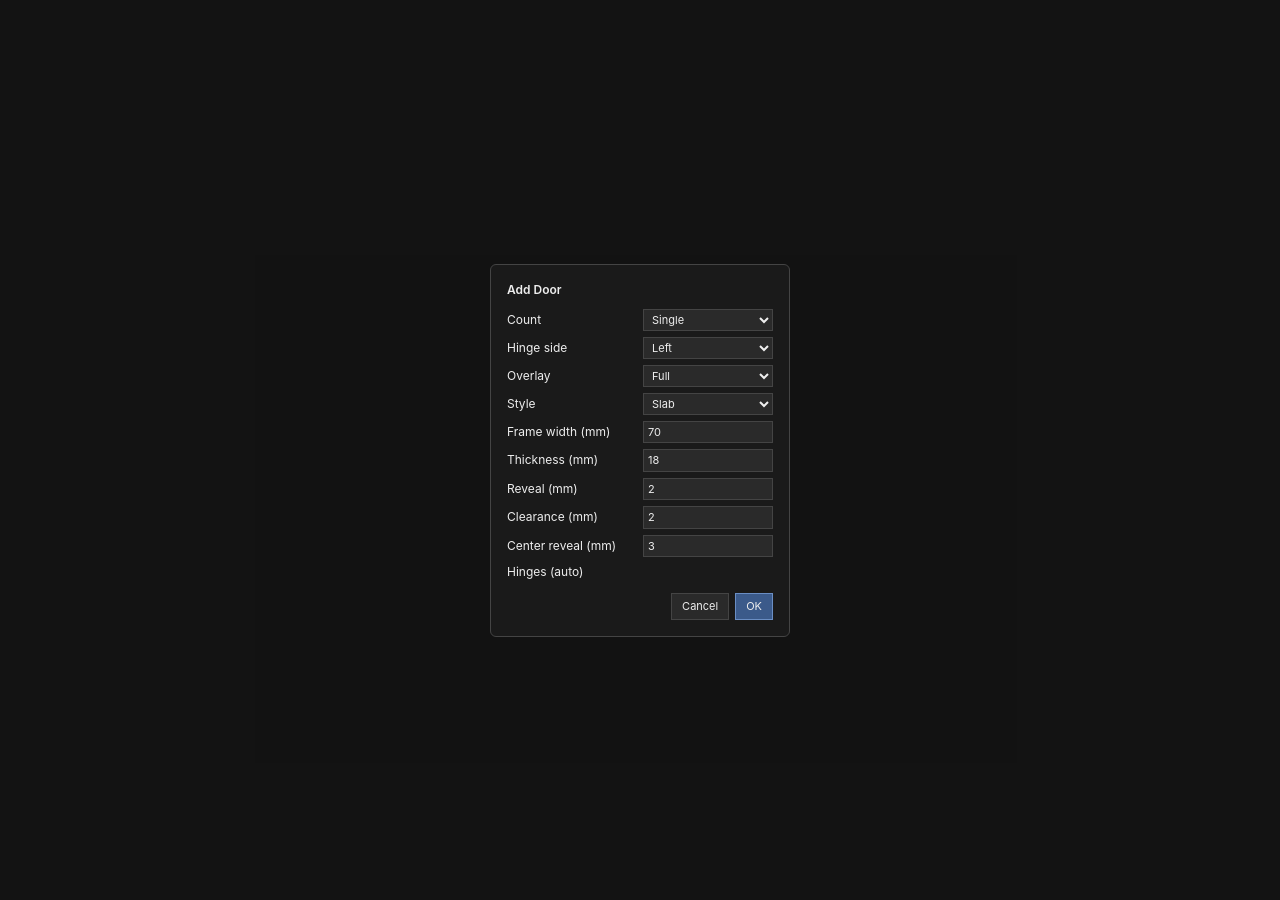
Test: AddDoorDialog — structural › hinge-side control is disabled when count is double
This screenshot has width=1280, height=900.
Select "Double" in the dropdown labelled "Count" at point(708, 320), box [643, 308, 773, 330]
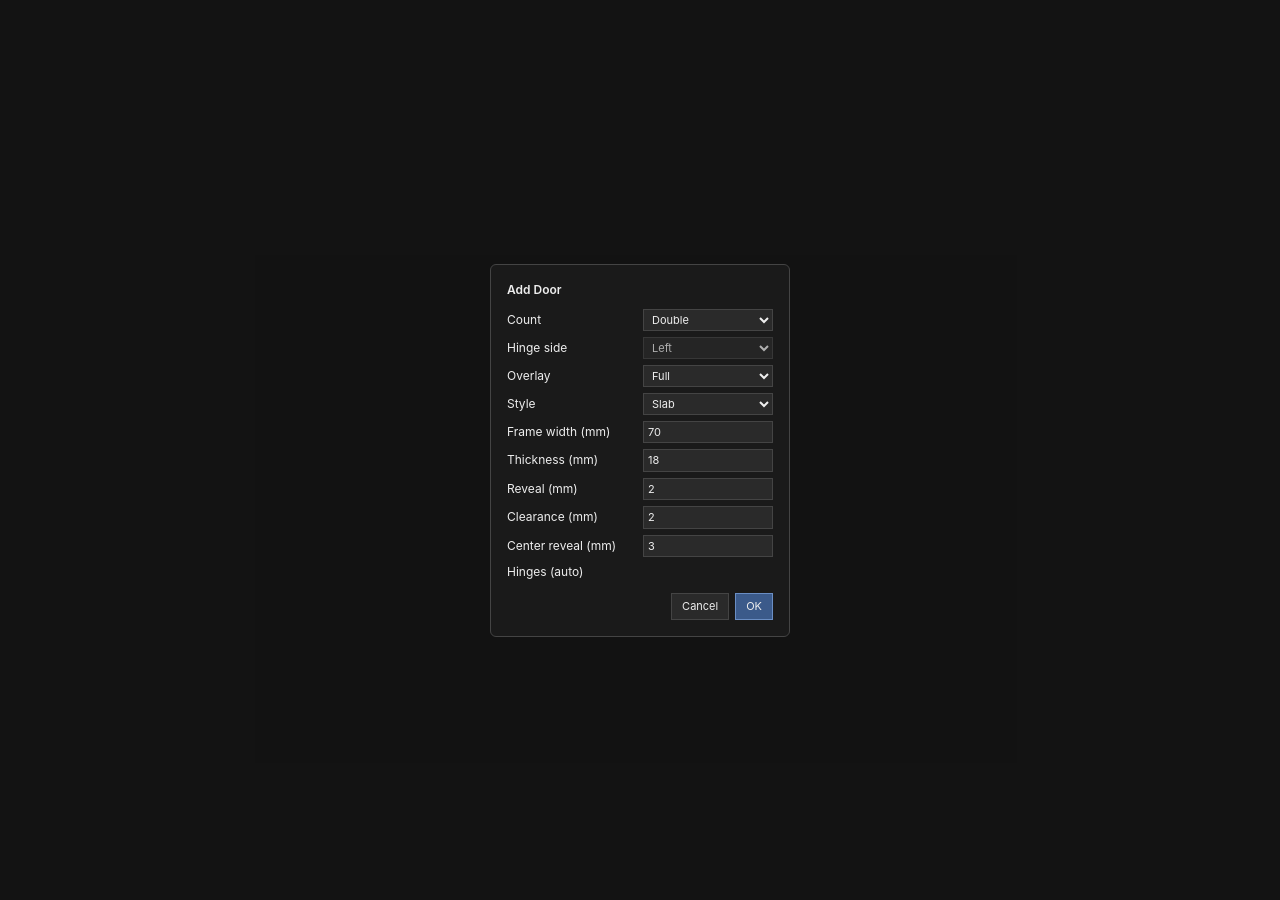
Expected: the dropdown labelled "Hinge side" is disabled, [643, 336, 773, 358]
